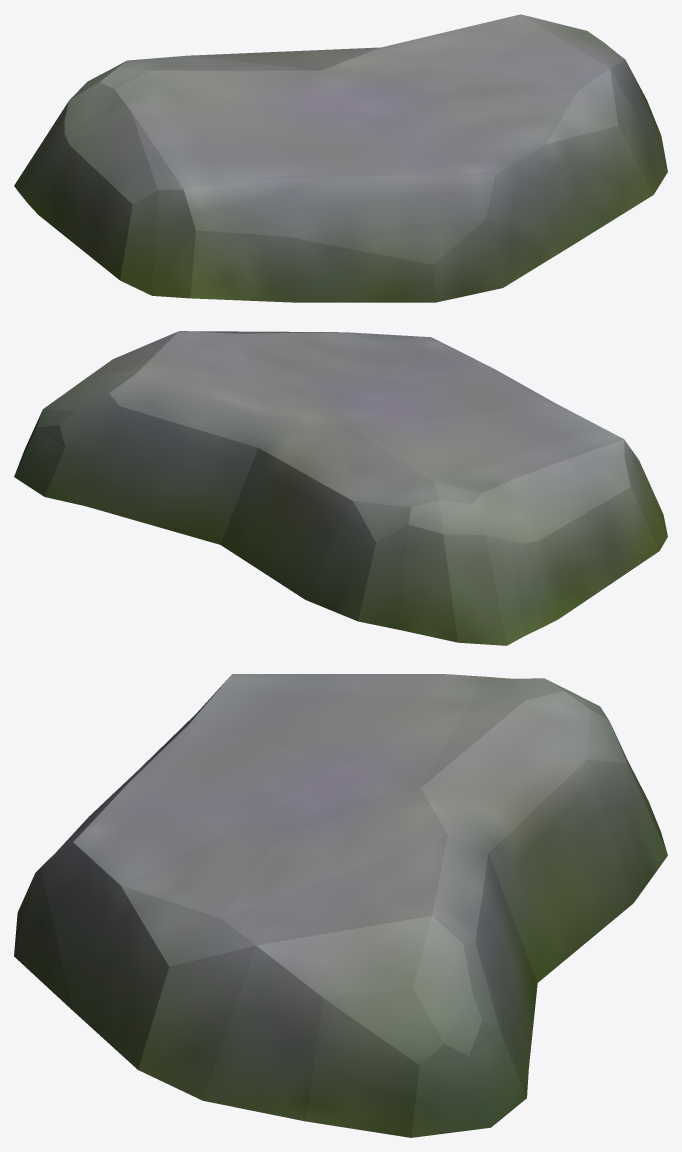
File: pebble-1.glb
3 renders of one model, top to bottom at view 1: azimuth 30°, elevation 25°; view 2: azimuth 150°, elevation 25°; view 3: azimuth 270°, elevation 25°, orthographic. The views are drawn at different scales.
Parts seen in each view (by area): view 1: pebble-1; view 2: pebble-1; view 3: pebble-1.
Part boxes in pixels (x1,y1,x2,y2): pebble-1: (14,14,667,302); pebble-1: (14,331,667,645); pebble-1: (14,674,667,1137).
Bounding box in the file's own units: 0.5 × 0.0955 × 0.367.
1 material, 1 textured.
